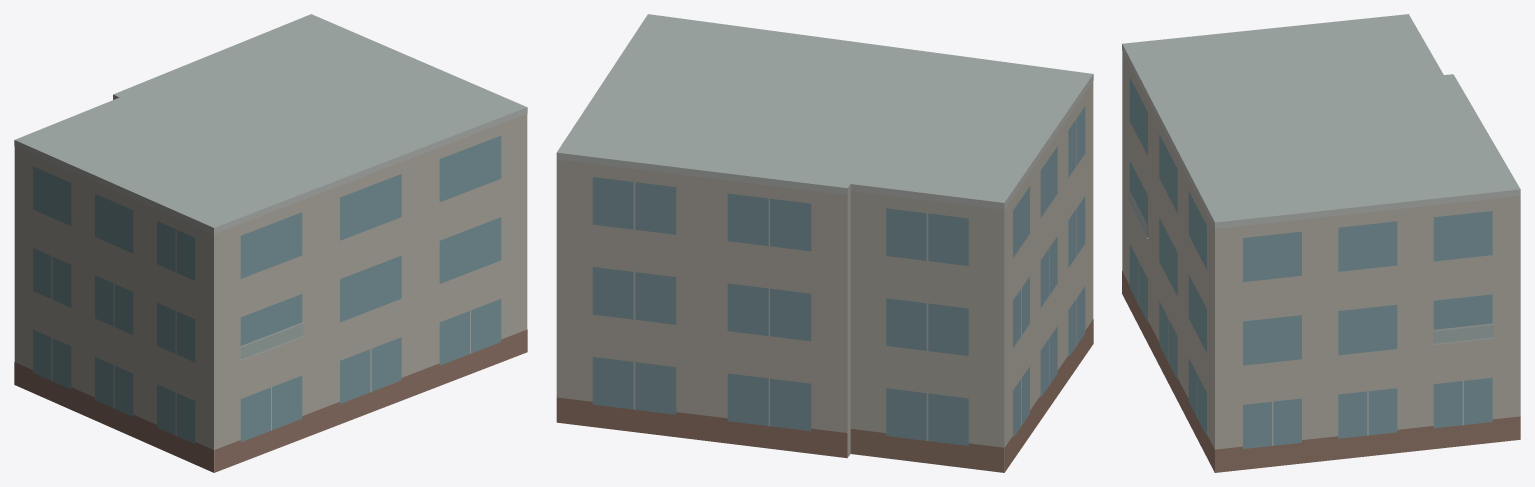
Rendered from survey-upis-33034905.glb.
The picture shows the model from 3 angles, left to right: view 1: azimuth 30°, elevation 25°; view 2: azimuth 150°, elevation 25°; view 3: azimuth 270°, elevation 25°; orthographic projection. The views are drawn at different scales.
Visible parts, largest first — view 1: survey-upis-33034905.tmp; view 2: survey-upis-33034905.tmp; view 3: survey-upis-33034905.tmp.
Boxes of the visible parts, x1,y1,x2,y2 form: survey-upis-33034905.tmp: [14, 14, 527, 472]; survey-upis-33034905.tmp: [556, 14, 1093, 472]; survey-upis-33034905.tmp: [1122, 14, 1520, 472].
Size of the model in its own units: 16.99 by 9.5 by 13.72.
